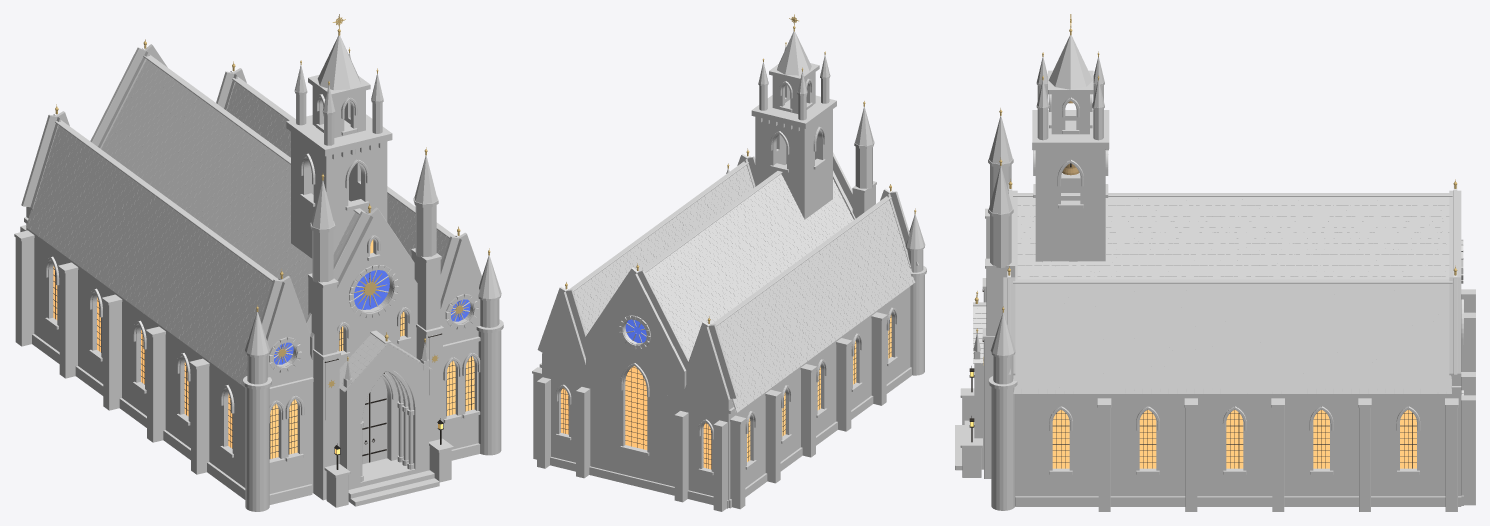
The model's file is SilverbrookTempleOfTheDawn.glb.
3 renders of one model, left to right at view 1: azimuth 30°, elevation 25°; view 2: azimuth 150°, elevation 25°; view 3: azimuth 270°, elevation 25°, orthographic. The views are drawn at different scales.
Visible parts, largest first — view 1: SM_SBTempleOfTheDawn_Masonry, SM_SBTempleOfTheDawn_Roof, SM_SBTempleOfTheDawn_Trim, SM_SBTempleOfTheDawn_Details, SM_SBTempleOfTheDawn_Door2; view 2: SM_SBTempleOfTheDawn_Masonry, SM_SBTempleOfTheDawn_Roof, SM_SBTempleOfTheDawn_Trim, SM_SBTempleOfTheDawn_Details; view 3: SM_SBTempleOfTheDawn_Roof, SM_SBTempleOfTheDawn_Masonry, SM_SBTempleOfTheDawn_Trim, SM_SBTempleOfTheDawn_Details.
Part boxes in pixels (<box>): SM_SBTempleOfTheDawn_Masonry: <box>15,48,501,511</box>; SM_SBTempleOfTheDawn_Roof: <box>26,35,501,391</box>; SM_SBTempleOfTheDawn_Trim: <box>14,44,503,507</box>; SM_SBTempleOfTheDawn_Details: <box>53,14,490,469</box>; SM_SBTempleOfTheDawn_Door2: <box>369,376,387,462</box>; SM_SBTempleOfTheDawn_Masonry: <box>533,72,924,511</box>; SM_SBTempleOfTheDawn_Roof: <box>569,31,925,412</box>; SM_SBTempleOfTheDawn_Trim: <box>532,63,926,508</box>; SM_SBTempleOfTheDawn_Details: <box>561,14,916,469</box>; SM_SBTempleOfTheDawn_Roof: <box>973,35,1452,393</box>; SM_SBTempleOfTheDawn_Masonry: <box>974,85,1475,511</box>; SM_SBTempleOfTheDawn_Trim: <box>955,70,1463,506</box>; SM_SBTempleOfTheDawn_Details: <box>969,14,1457,468</box>.
Size of the model in its own units: 12.3 by 19.94 by 21.6.
